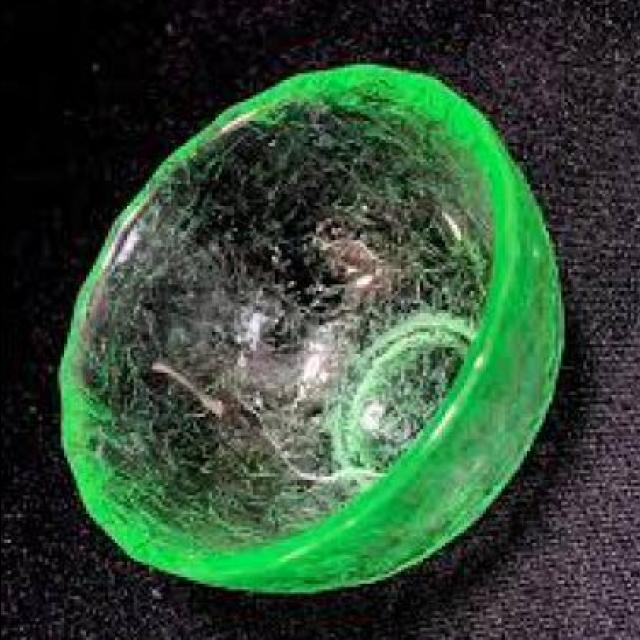kaca: (54, 68, 564, 599)
